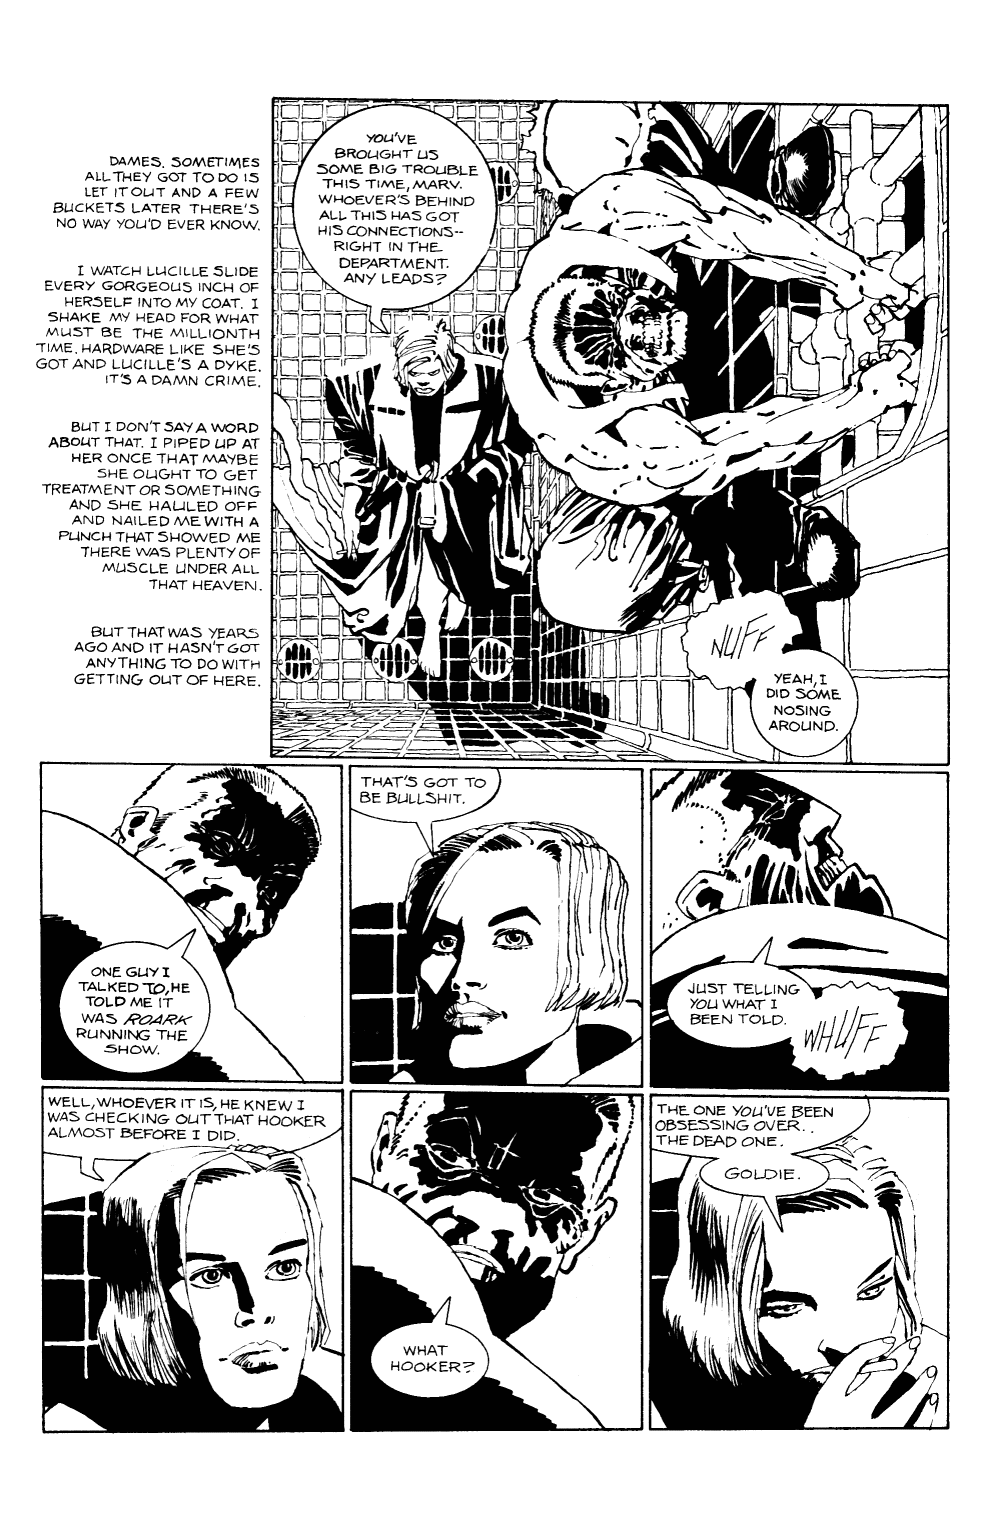Baloon: (290, 104, 496, 321), (39, 414, 267, 607), (27, 255, 267, 393), (667, 960, 911, 1086), (685, 590, 854, 754), (646, 1095, 874, 1207), (55, 937, 216, 1076), (41, 146, 267, 244), (41, 1088, 346, 1160), (69, 616, 265, 703), (354, 767, 496, 844), (369, 1311, 492, 1397)
Vignetta: (276, 93, 948, 765), (41, 1086, 346, 1435), (354, 1088, 646, 1432), (651, 767, 953, 1093), (346, 765, 646, 1093), (646, 1097, 946, 1425), (41, 760, 341, 1082)
